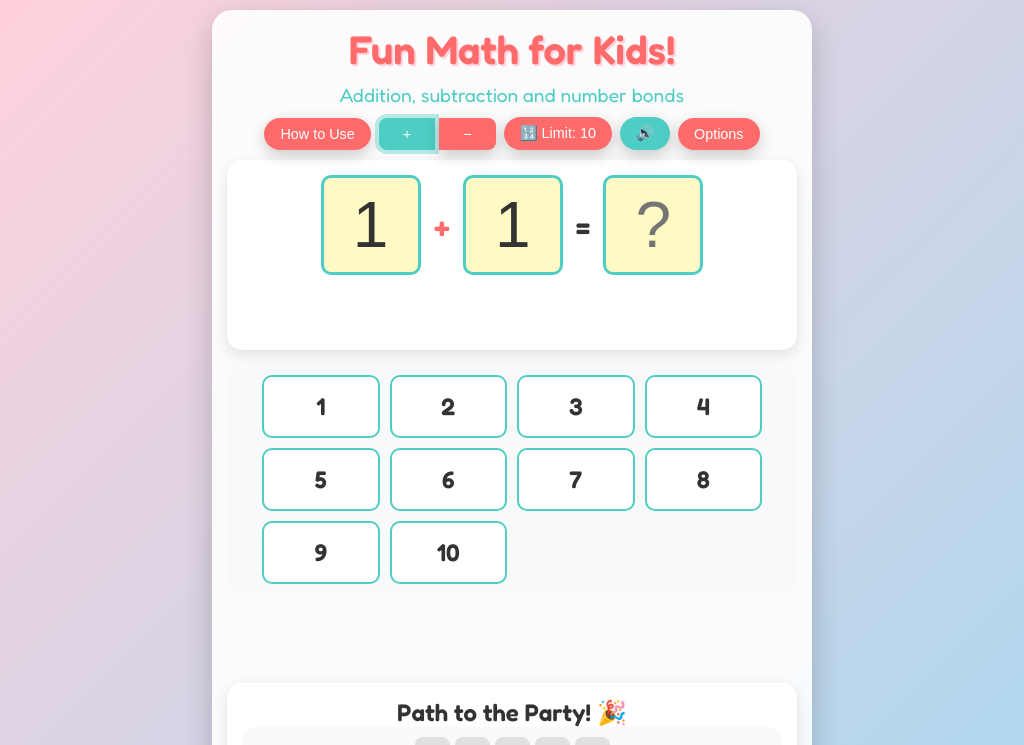
it: App.vue › operator toggle switches between + and -
Check: the text with class "operator" reads "+", box [434,206,450,244]
Click the button "−": coordinates (467, 134) [439,118,496,150]
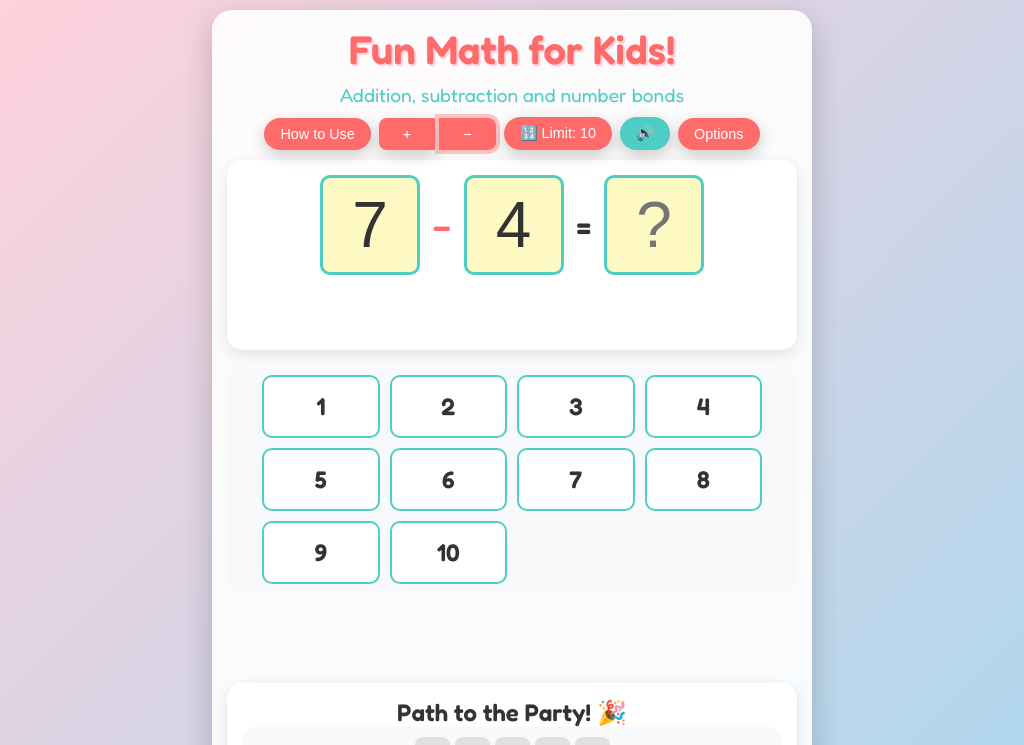
Check: the text with class "operator" reads "−", box [433,206,450,244]
